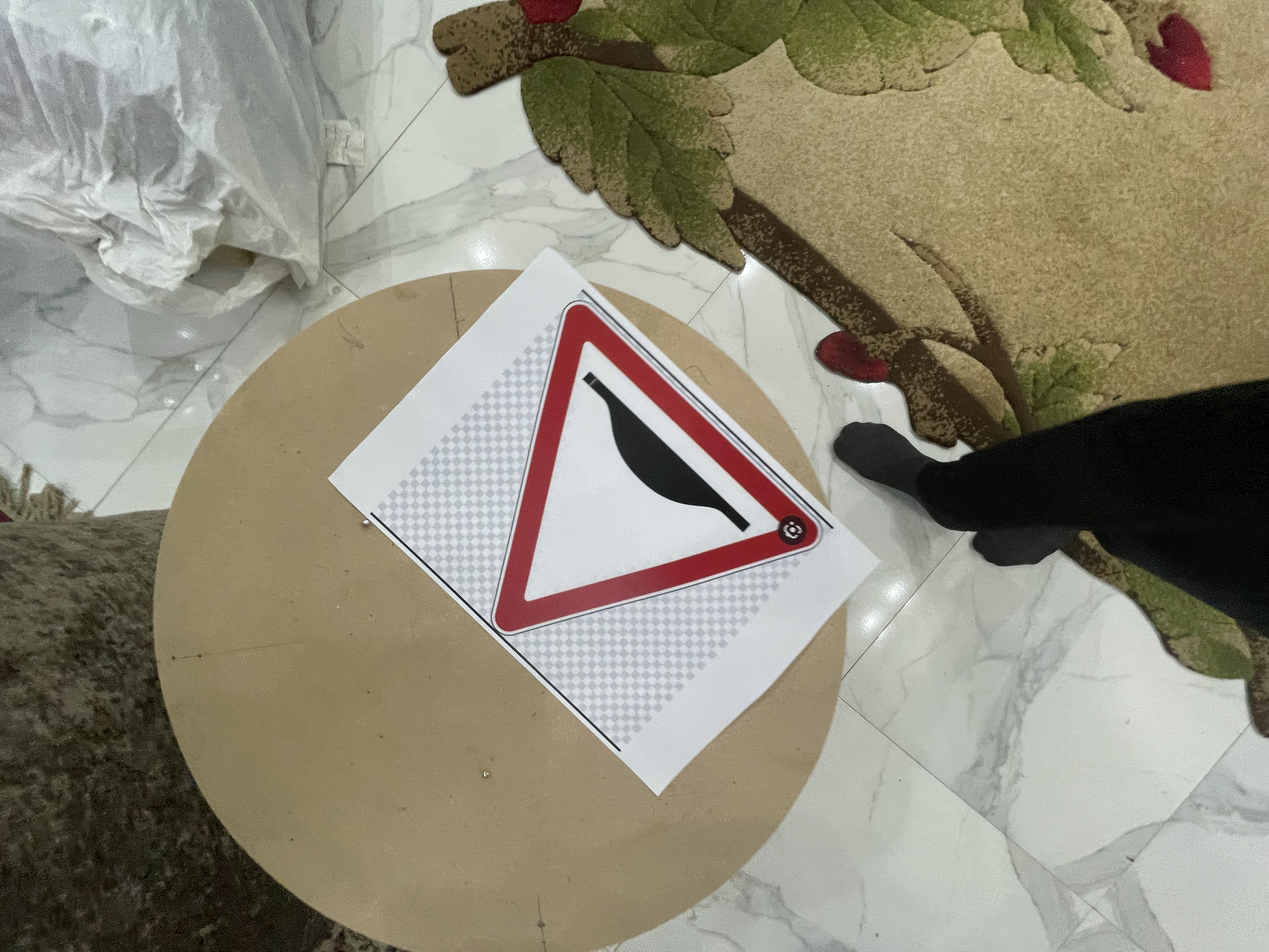Hump: (388, 362, 895, 628)
